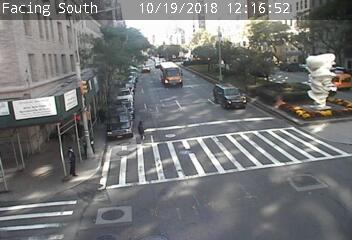carw: (214, 82, 247, 110), (159, 61, 184, 87)
